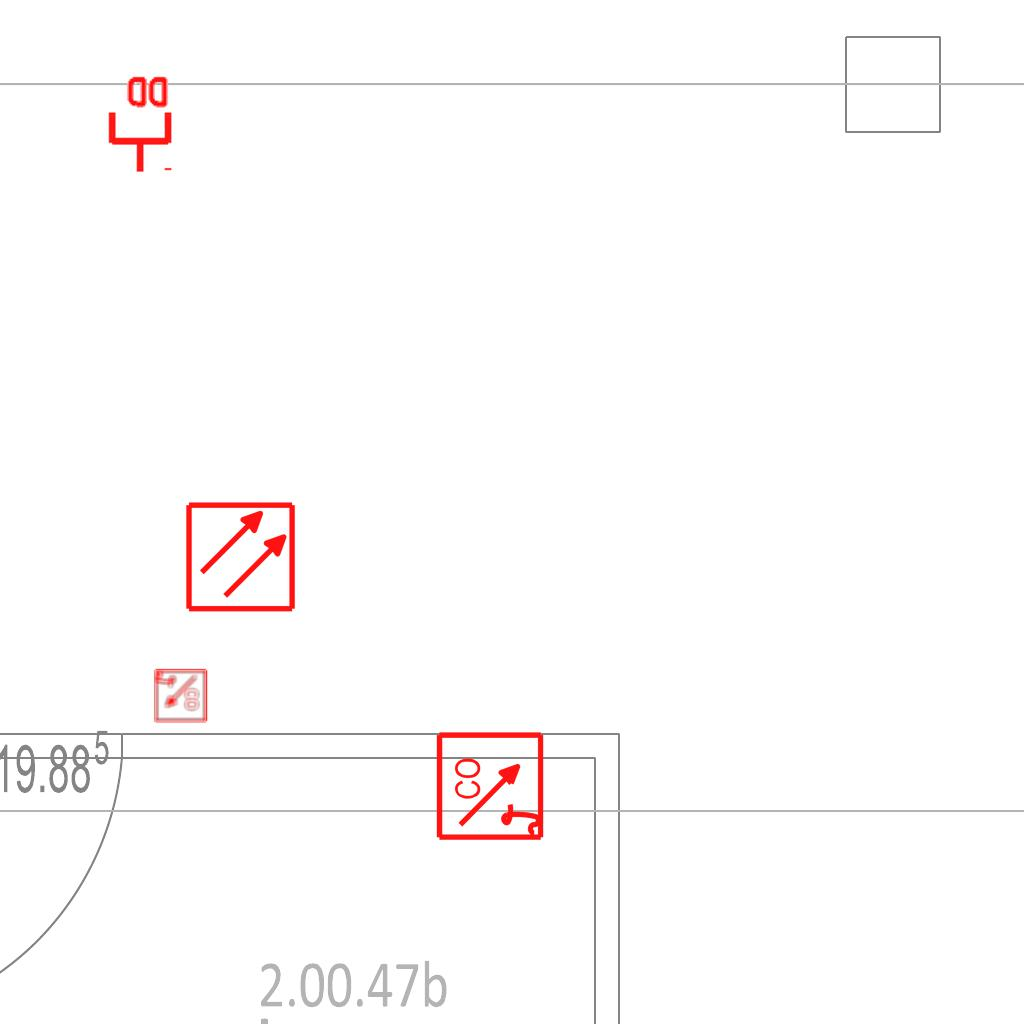Datenanschluss_zweifach: (104, 72, 173, 175)
RMO_Rauchmelder_optischer: (184, 500, 297, 613)
ROA_Rauchmelder_optisch_mit_Signalgeber_(Sockelsirene): (435, 729, 548, 842), (152, 668, 208, 724)
